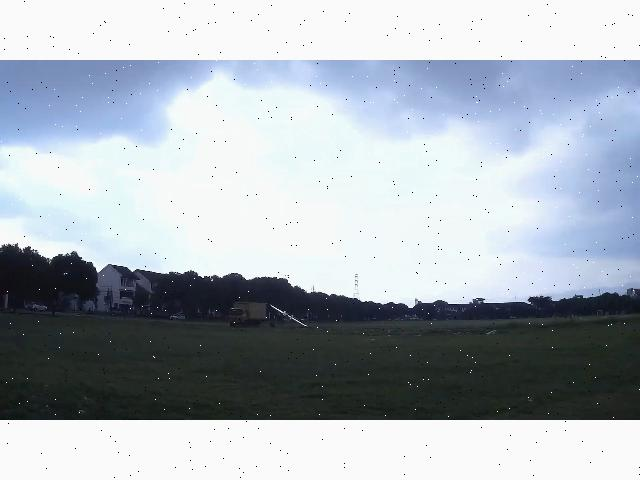Anti-Drone: (271, 305, 309, 327)
